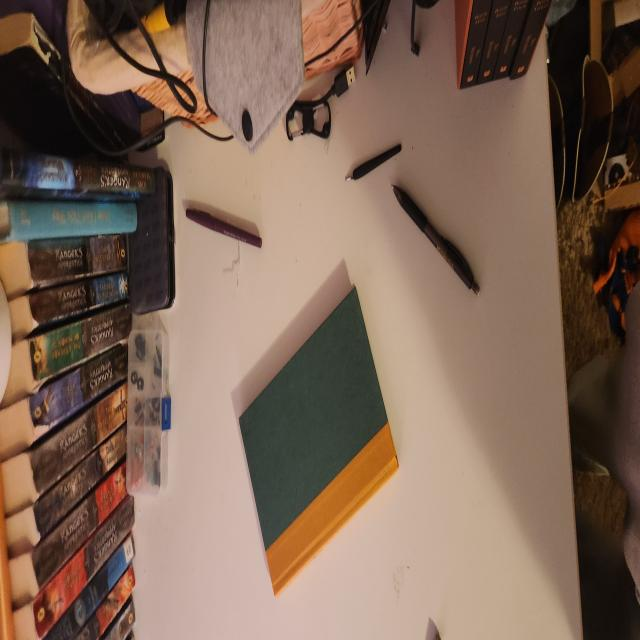Book: (230, 266, 398, 599)
Pen: (393, 185, 482, 297), (188, 211, 263, 249)
